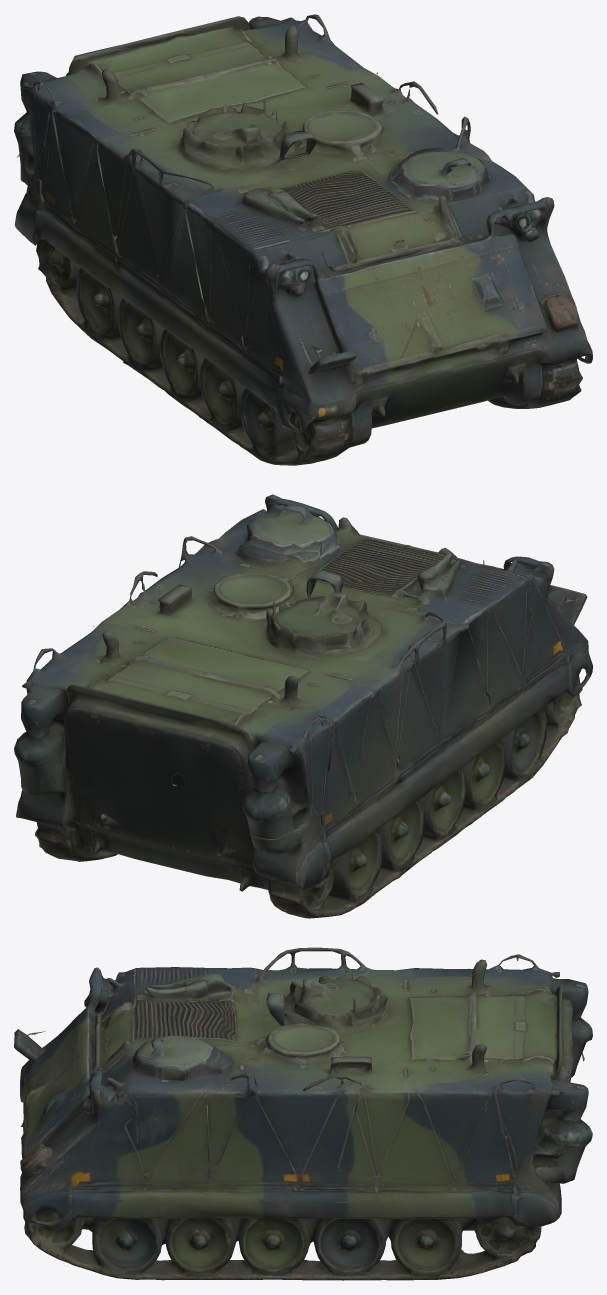
The model's file is xe-boc-thep-m113.glb.
The picture shows the model from 3 angles, top to bottom: view 1: azimuth 30°, elevation 25°; view 2: azimuth 150°, elevation 25°; view 3: azimuth 270°, elevation 25°; orthographic projection. The views are drawn at different scales.
Parts seen in each view (by area): view 1: tripo_node_d49d58fa; view 2: tripo_node_d49d58fa; view 3: tripo_node_d49d58fa.
Part boxes in pixels (x1,y1,x2,y2): tripo_node_d49d58fa: (14,14,592,465); tripo_node_d49d58fa: (14,494,592,918); tripo_node_d49d58fa: (14,947,592,1280).
Size of the model in its own units: 2.68 by 2.11 by 5.
Materials: 1 (1 with a texture image).
